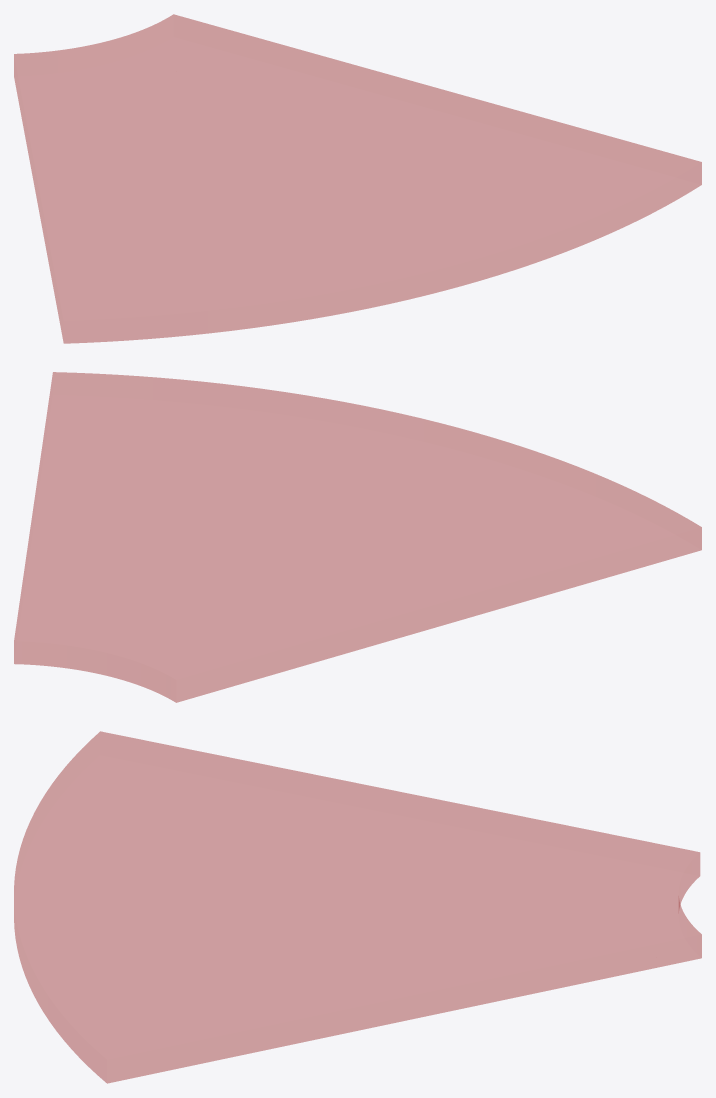
The picture shows the model from 3 angles, top to bottom: view 1: azimuth 30°, elevation 25°; view 2: azimuth 150°, elevation 25°; view 3: azimuth 270°, elevation 25°; orthographic projection. The views are drawn at different scales.
Parts seen in each view (by area): view 1: Tube; view 2: Tube; view 3: Tube.
Part boxes in pixels (<box>): Tube: <box>14,14,701,343</box>; Tube: <box>14,372,701,702</box>; Tube: <box>14,731,701,1083</box>.
Size of the model in its own units: 600 by 20.41 by 531.
